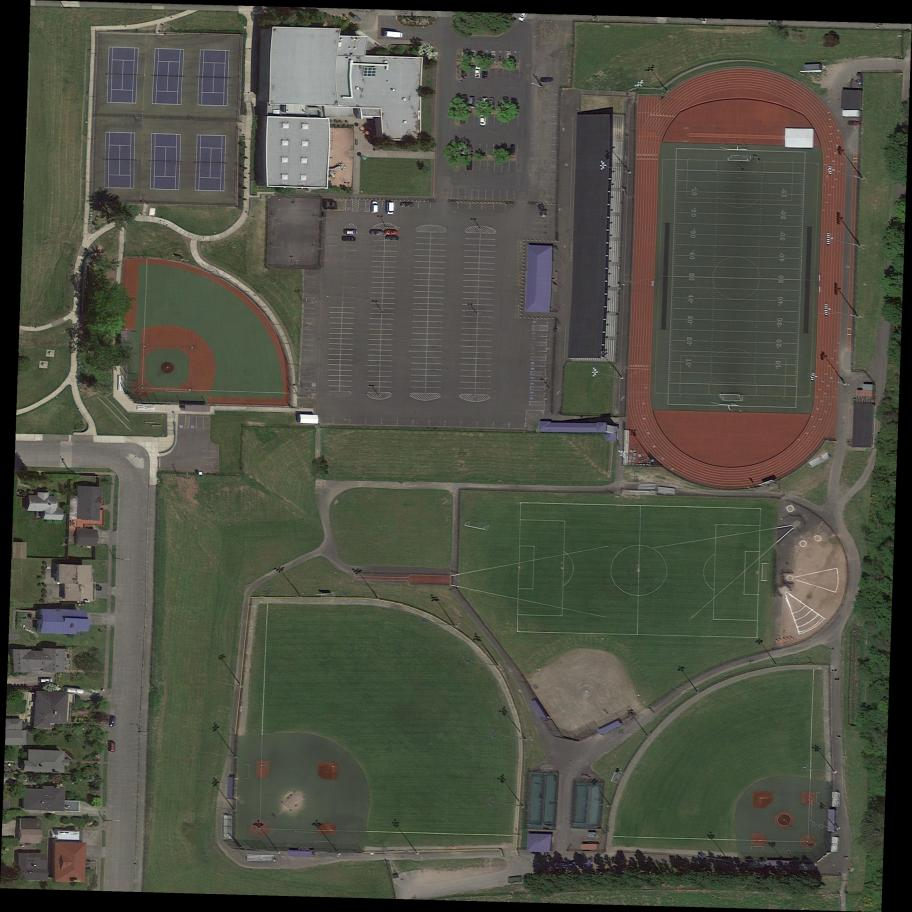small-vehicle: (383, 30, 404, 39), (385, 200, 395, 216), (369, 229, 384, 237), (108, 740, 117, 753), (371, 200, 379, 214), (400, 201, 415, 208), (38, 677, 53, 684), (108, 715, 116, 728), (467, 96, 475, 108), (474, 66, 481, 79), (480, 114, 487, 126), (384, 230, 398, 236), (343, 229, 357, 235), (342, 236, 356, 242), (385, 235, 398, 241)
